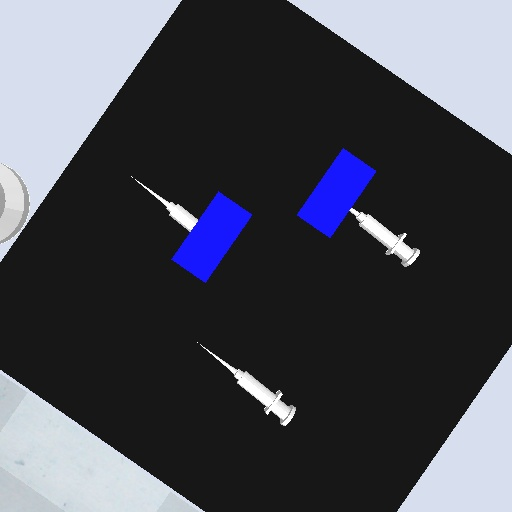jeringuilla: (193, 338, 301, 428), (347, 205, 423, 271), (128, 172, 199, 233)
